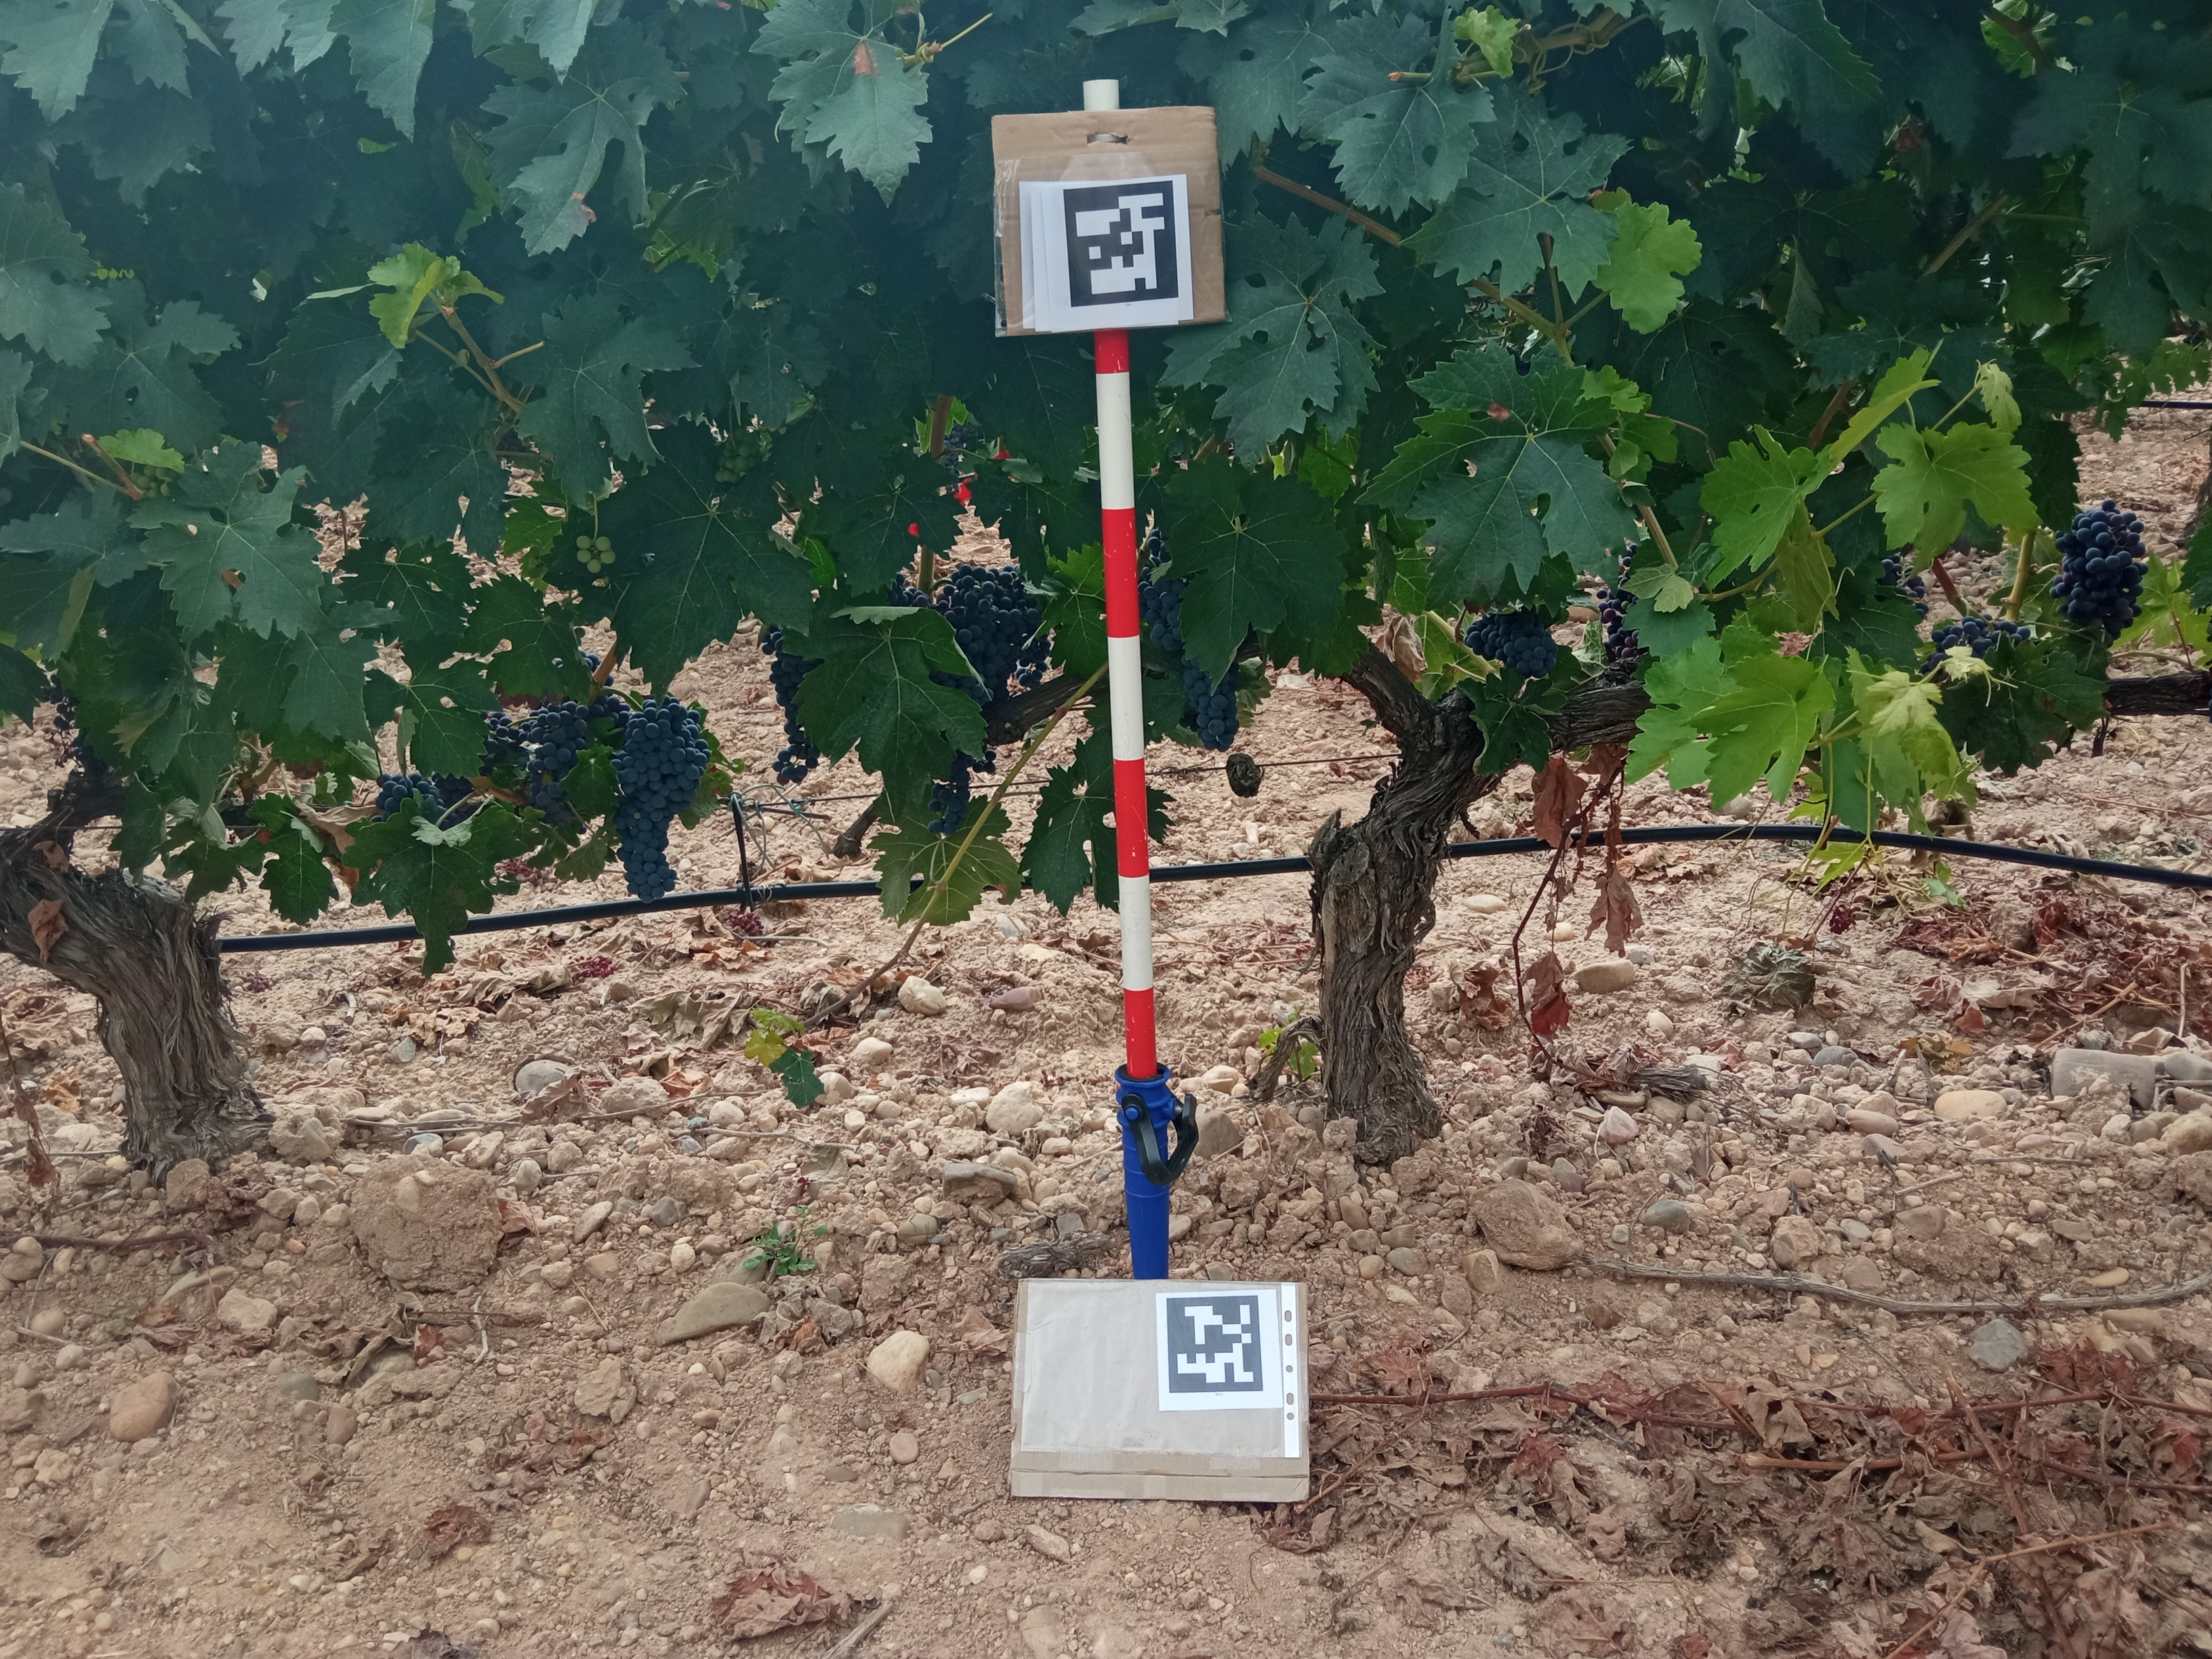grapes: (604, 692, 714, 906), (928, 559, 1054, 708), (2047, 495, 2149, 652), (759, 626, 827, 788), (516, 701, 592, 835), (40, 674, 110, 789), (1463, 601, 1561, 683), (925, 732, 998, 836), (1136, 525, 1193, 652), (1919, 610, 2033, 674), (1172, 652, 1242, 753), (368, 770, 465, 835), (1594, 575, 1644, 683), (573, 645, 631, 732), (1872, 549, 1932, 624), (474, 708, 523, 777), (712, 427, 763, 486), (428, 767, 477, 812), (125, 462, 181, 500), (883, 570, 934, 612), (575, 532, 618, 577), (1620, 540, 1641, 570)
